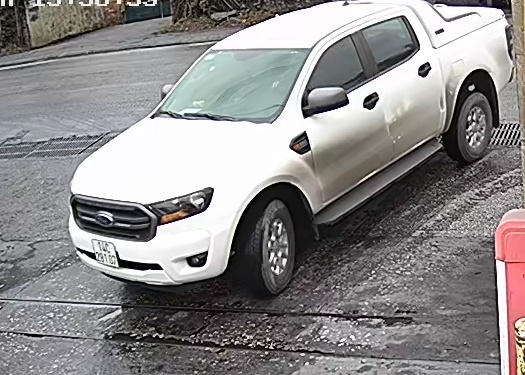vehicle plate: (85, 231, 121, 272)
